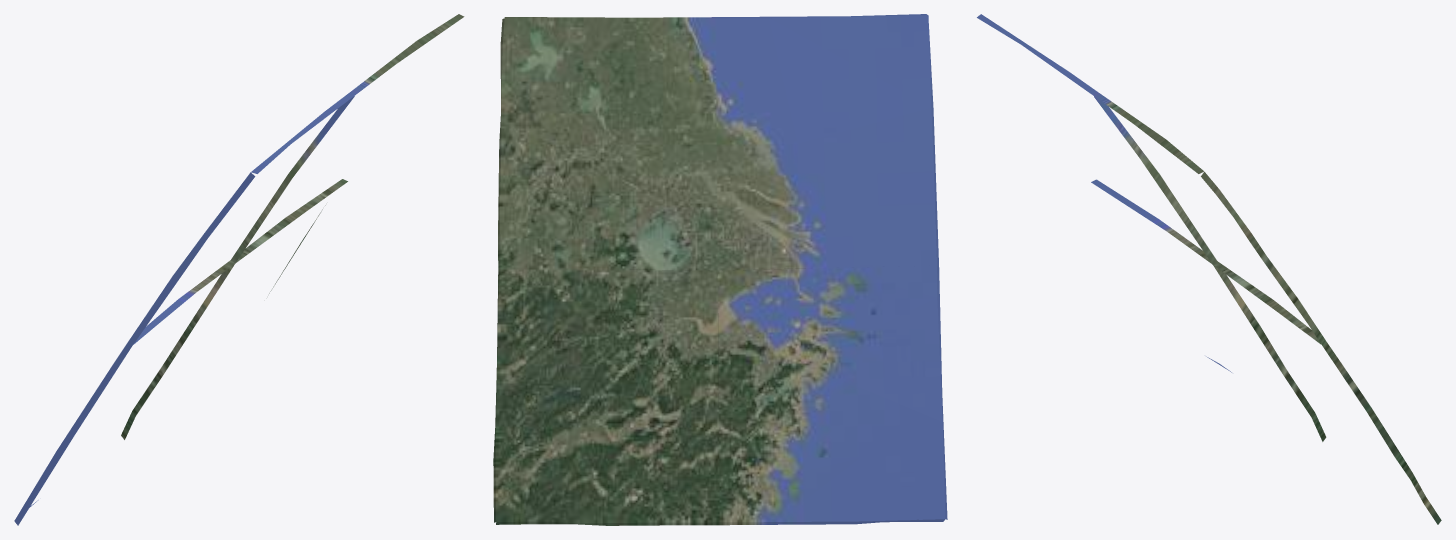
3 renders of one model, left to right at view 1: azimuth 30°, elevation 25°; view 2: azimuth 150°, elevation 25°; view 3: azimuth 270°, elevation 25°, orthographic. The views are drawn at different scales.
Bounding box in the file's own units: 633326 × 545308 × 560552.
Materials: 1 (1 with a texture image).
